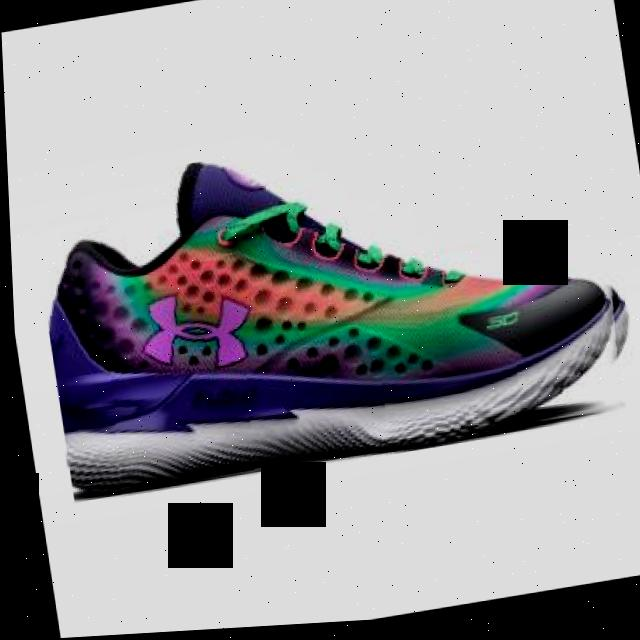shoe: (24, 102, 640, 504)
